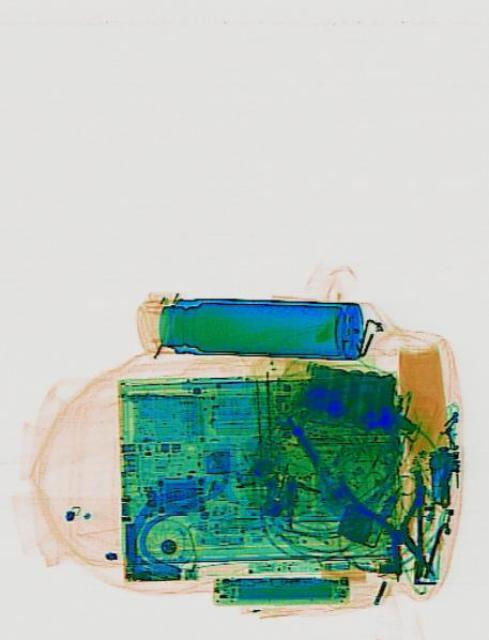Pliers: (343, 456, 444, 594)
